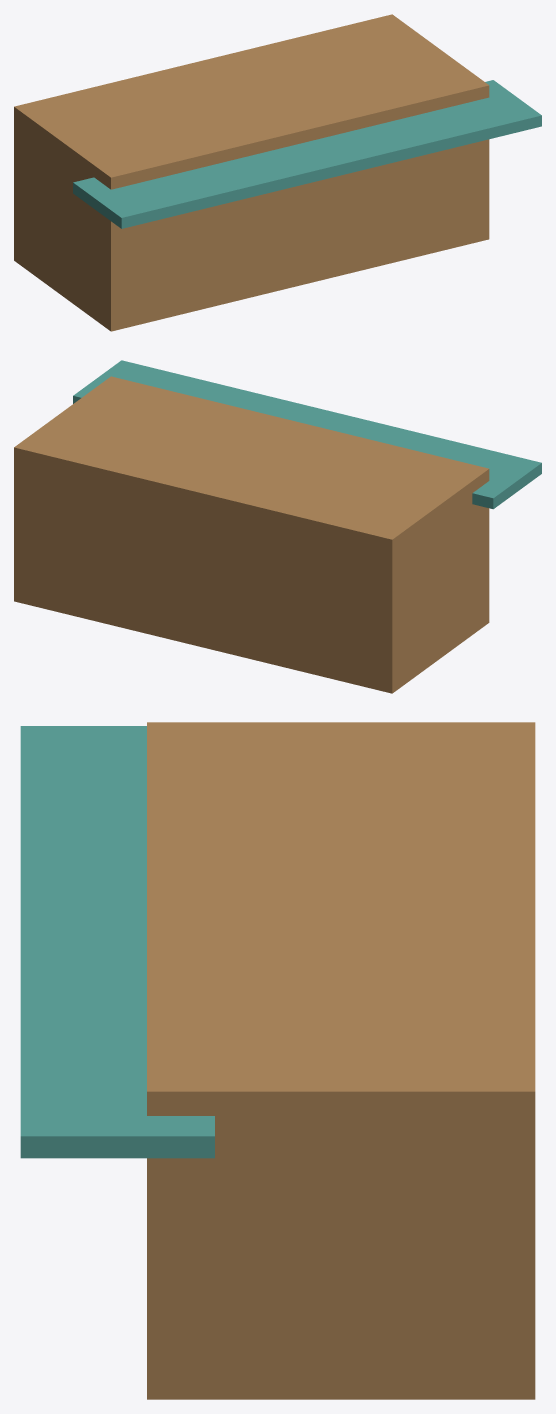
The model's file is railway-terminal.glb.
The picture shows the model from 3 angles, top to bottom: view 1: azimuth 30°, elevation 25°; view 2: azimuth 150°, elevation 25°; view 3: azimuth 270°, elevation 25°; orthographic projection. The views are drawn at different scales.
Parts seen in each view (by area): view 1: railway-terminal-static-terminal-wall, railway-terminal-static-terminal-roof; view 2: railway-terminal-static-terminal-wall, railway-terminal-static-terminal-roof; view 3: railway-terminal-static-terminal-wall, railway-terminal-static-terminal-roof.
Part boxes in pixels (x1,y1,x2,y2): railway-terminal-static-terminal-wall: [14, 14, 489, 331]; railway-terminal-static-terminal-roof: [73, 80, 541, 228]; railway-terminal-static-terminal-wall: [14, 376, 489, 693]; railway-terminal-static-terminal-roof: [73, 360, 541, 509]; railway-terminal-static-terminal-wall: [147, 722, 535, 1399]; railway-terminal-static-terminal-roof: [20, 726, 214, 1158].
Size of the model in its own units: 10 by 3.5 by 5.3.
